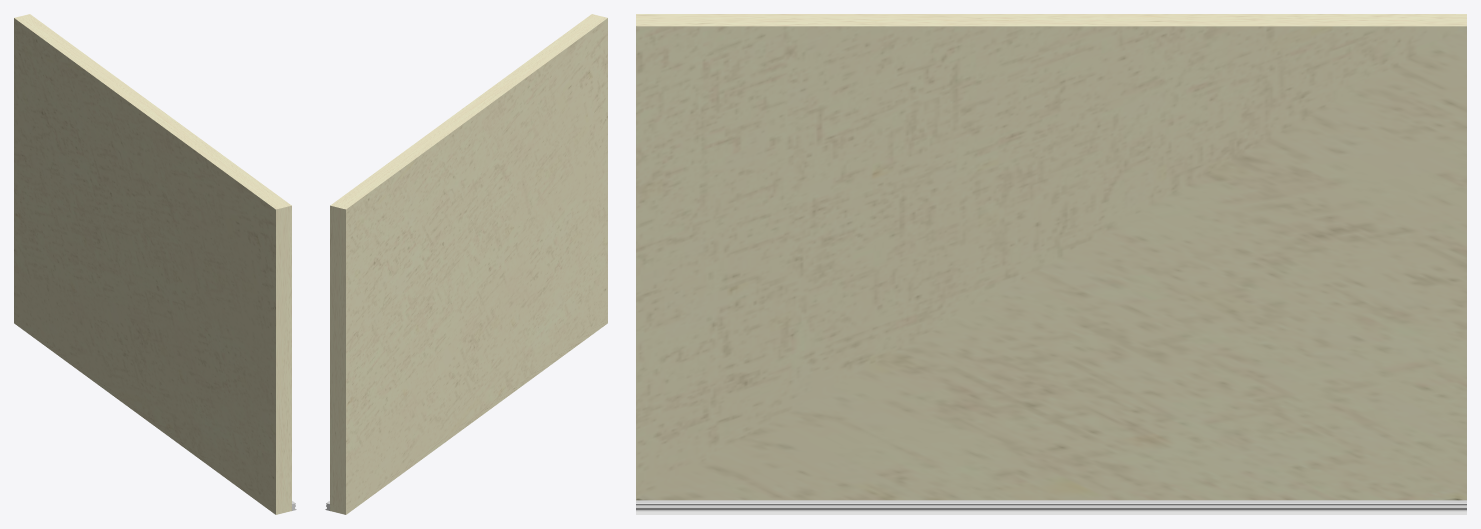
Rendered from Wall.fbx.
3 renders of one model, left to right at view 1: azimuth 30°, elevation 25°; view 2: azimuth 150°, elevation 25°; view 3: azimuth 270°, elevation 25°, orthographic. The views are drawn at different scales.
Visible parts, largest first — view 1: 큐브; view 2: 큐브; view 3: 큐브.
Part boxes in pixels (x1,y1,x2,y2): 큐브: (14, 14, 296, 514); 큐브: (325, 14, 607, 514); 큐브: (636, 14, 1466, 514).
Bounding box in the file's own units: 2.81 × 38.86 × 60.38.
